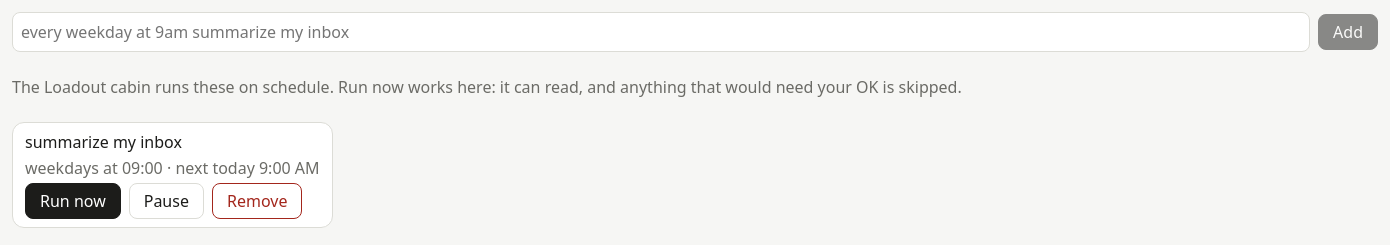
Test: Automations › pause and remove send the row's id
This screenshot has width=1390, height=245.
Click the button "Pause".
click(166, 201)  # box x1=129 y1=183 x2=204 y2=219
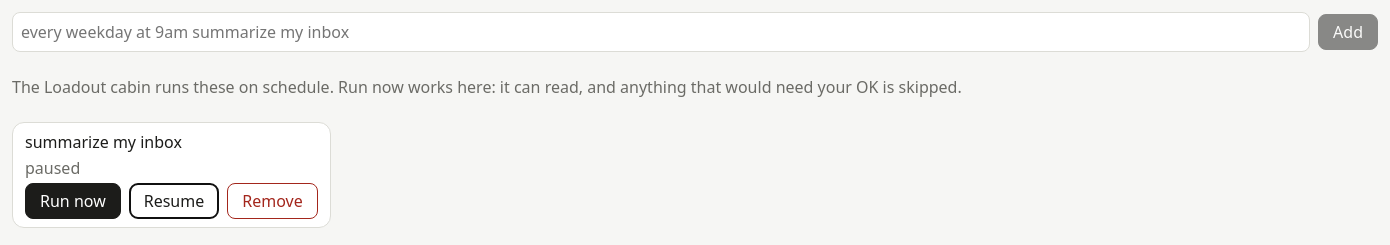
Result: the button "Resume" is shown at x1=129 y1=183 x2=219 y2=219
Click the button "Remove".
click(272, 201)  # box x1=227 y1=183 x2=318 y2=219
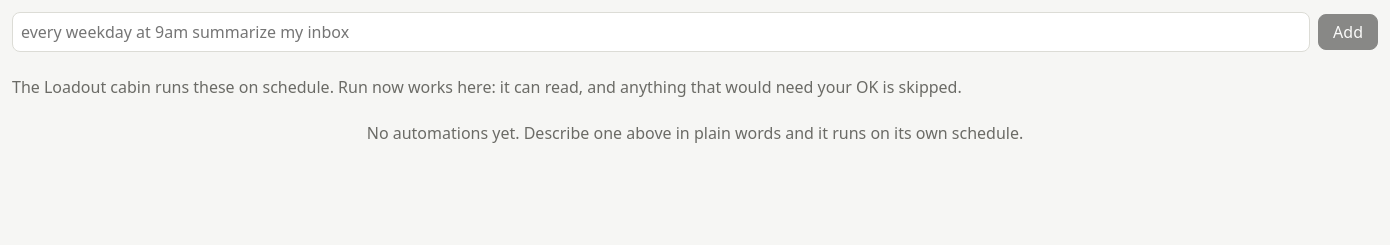
Result: the text "No automations yet. Describe one above in plain words and it runs on its own schedule." is shown at x1=367 y1=122 x2=1023 y2=144
